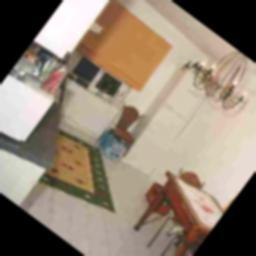Armario: (125, 71, 228, 185)
